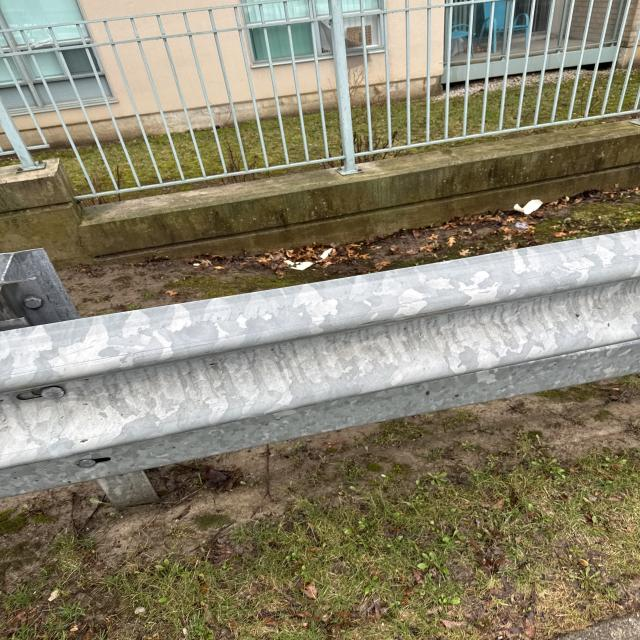Guard rail: (25, 241, 636, 475)
